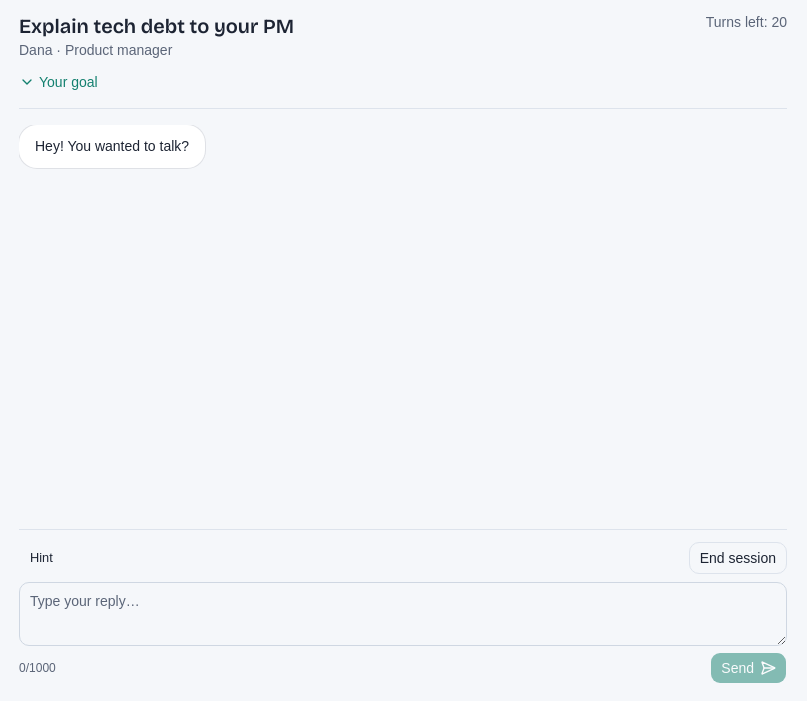
Test: SessionView › shows streaming text incrementally, then a saved message, and disables the composer meanwhile
In the text box named "Message": (403, 614) [19,582,787,646], type "Hi Dana"
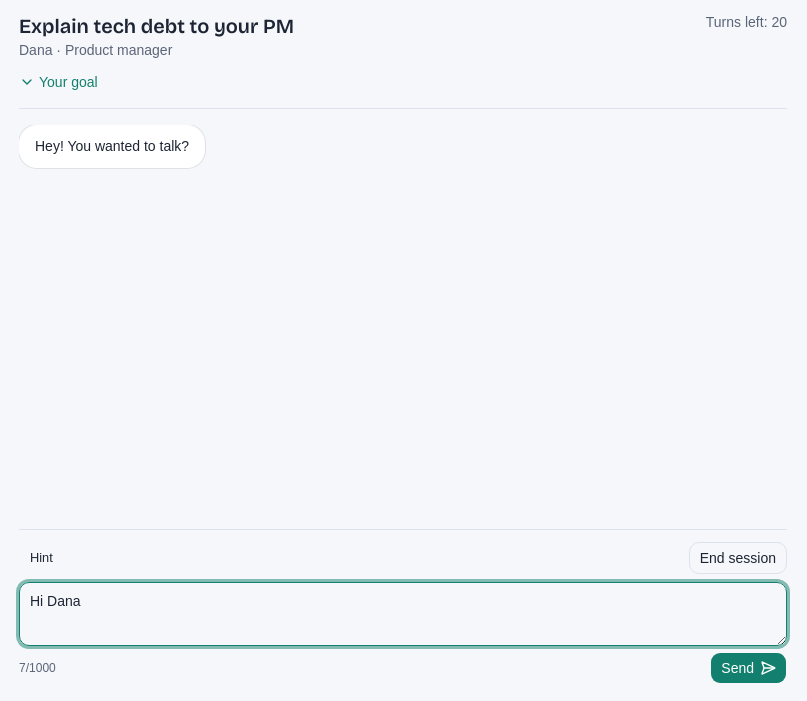
Click the button "Send": (749, 668) [710,652,787,684]
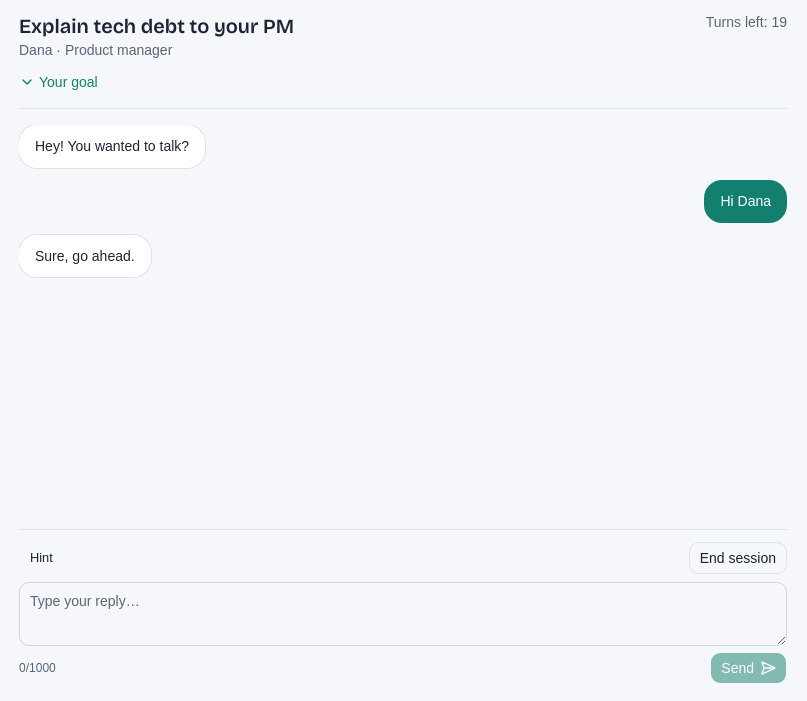
Check: the text box named "Message" is enabled, box [19,582,787,646]
Check: the text "Sure, go ahead." is shown, box [19,234,151,277]
Check: the text "Turns left: 19" is shown, box [706,12,787,32]
